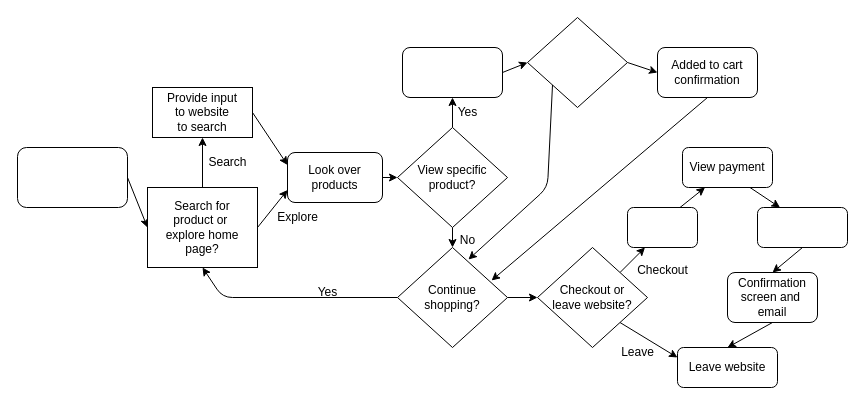
Image size: 865x405. Some labels were removed from this diagram. Here are the shapes that lost their labels. From the top down, the box of each, then its label:
(402, 46, 502, 98): Open product webpage
(526, 16, 628, 108): Add item to cart?
(16, 146, 128, 208): Website Opened
(626, 206, 698, 248): View cart
(756, 206, 848, 248): Input payment info
